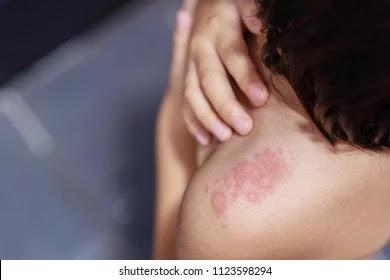Beetle: (203, 144, 297, 218), (239, 158, 281, 193), (211, 189, 233, 216)
